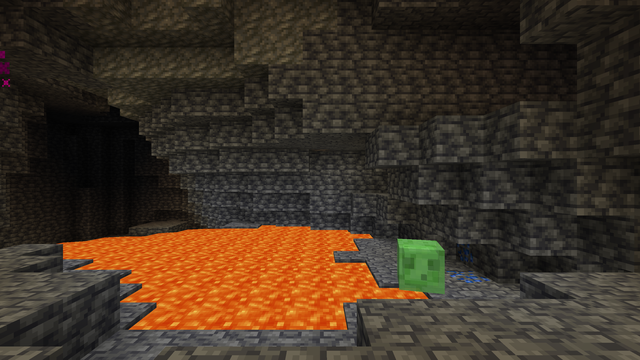slimes: (392, 237, 449, 291)
